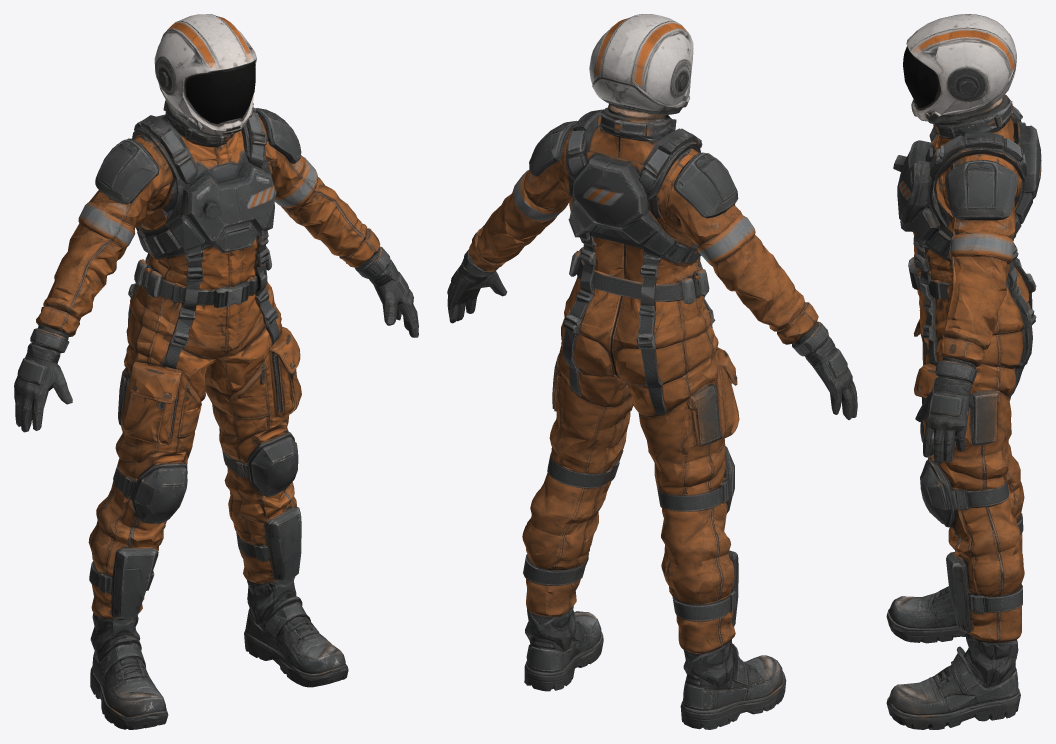
File: pilot_mixamo.fbx
The picture shows the model from 3 angles, left to right: view 1: azimuth 30°, elevation 25°; view 2: azimuth 150°, elevation 25°; view 3: azimuth 270°, elevation 25°; orthographic projection. The views are drawn at different scales.
Visible parts, largest first — view 1: pilot; view 2: pilot; view 3: pilot.
Part boxes in pixels (<box>): pilot: <box>14,14,418,729</box>; pilot: <box>447,14,857,729</box>; pilot: <box>886,14,1041,729</box>.
Size of the model in its own units: 1.13 by 1.8 by 0.385.
1 material, 1 textured.
